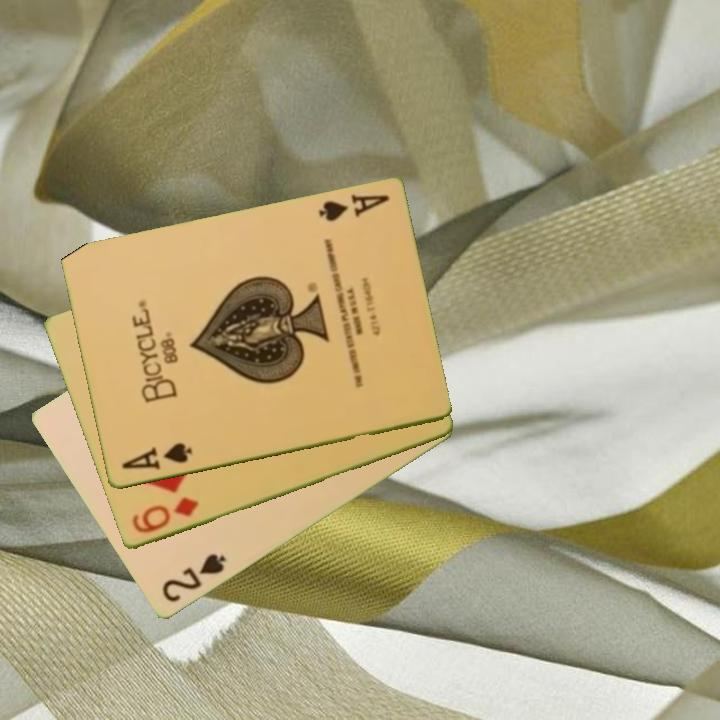2s: (158, 550, 229, 606)
6d: (128, 493, 201, 537)
As: (314, 191, 392, 225), (118, 440, 195, 473)
